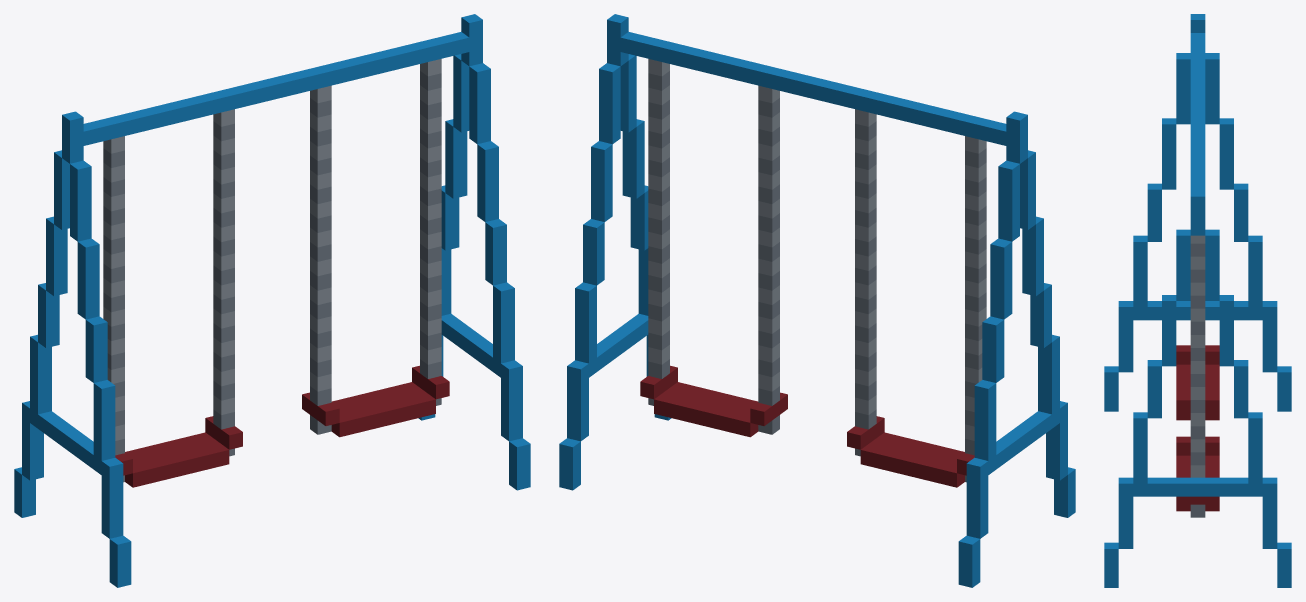
The model's file is Playground_Swing_01.glb.
3 renders of one model, left to right at view 1: azimuth 30°, elevation 25°; view 2: azimuth 150°, elevation 25°; view 3: azimuth 270°, elevation 25°, orthographic. The views are drawn at different scales.
Visible parts, largest first — view 1: Playground_Swing_01; view 2: Playground_Swing_01; view 3: Playground_Swing_01.
Part boxes in pixels (bbox=[...]): Playground_Swing_01: bbox=[14, 14, 530, 587]; Playground_Swing_01: bbox=[559, 14, 1075, 587]; Playground_Swing_01: bbox=[1104, 14, 1291, 587].
Size of the model in its own units: 3 by 3 by 1.3.
Materials: 1 (1 with a texture image).
